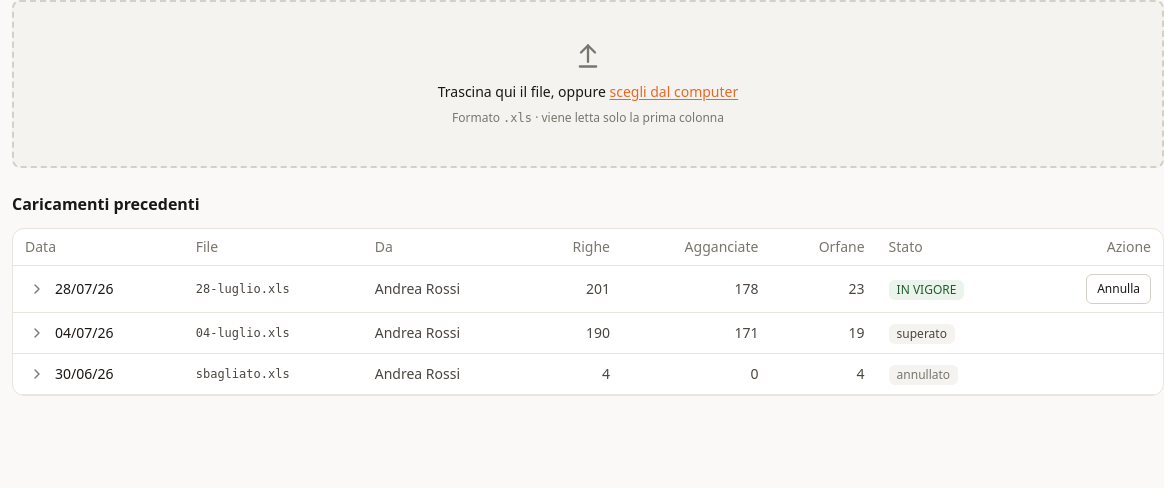
Test case: ImportClient — storico › espande una riga e mostra i suoi codici non a listino
The image size is (1164, 488).
Click the button named "codici non a listino del file 28-luglio": click(37, 289) x1=25 y1=277 x2=49 y2=301
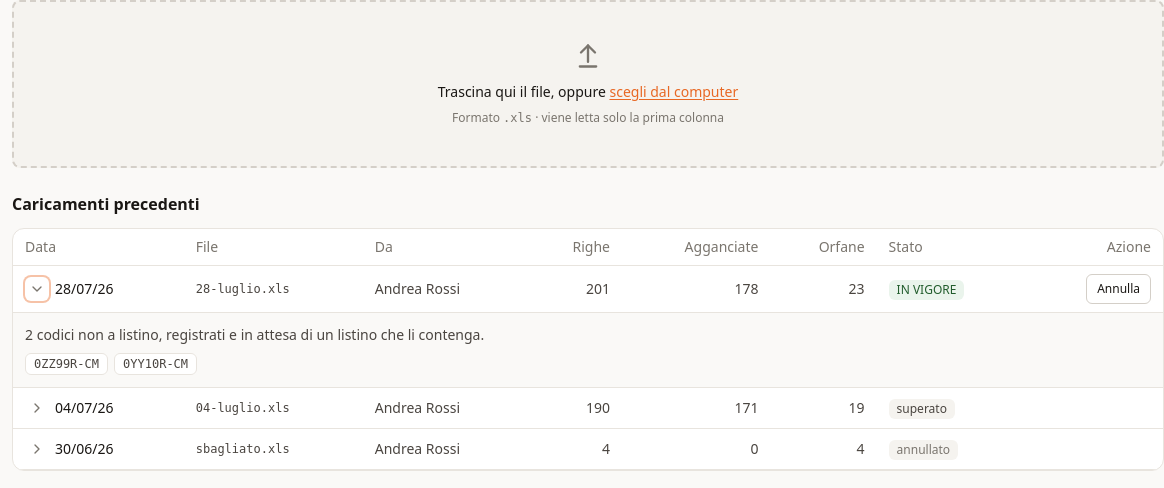
Check: the button named "codici non a listino del file 28-luglio" is expanded, box x1=25 y1=277 x2=49 y2=301
Check: the list item "0ZZ99R-CM" is shown, box x1=25 y1=353 x2=108 y2=375
